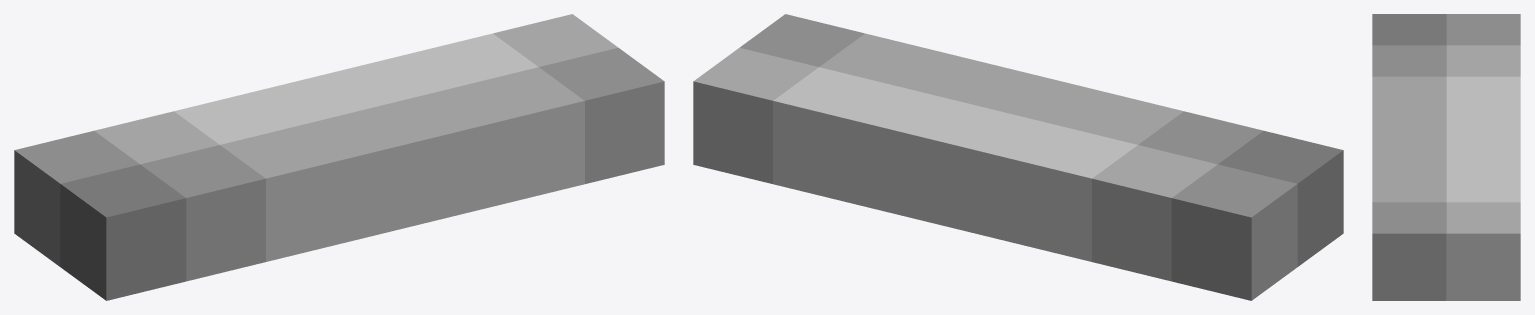
The model's file is acrB.obj.
The picture shows the model from 3 angles, left to right: view 1: azimuth 30°, elevation 25°; view 2: azimuth 150°, elevation 25°; view 3: azimuth 270°, elevation 25°; orthographic projection. The views are drawn at different scales.
Visible parts, largest first — view 1: ACR Casing; view 2: ACR Casing; view 3: ACR Casing.
Part boxes in pixels (box(x1,y1,x2,y2)): ACR Casing: box(14, 14, 664, 300); ACR Casing: box(693, 14, 1343, 300); ACR Casing: box(1372, 14, 1520, 300).
Size of the model in its own units: 0.7 by 0.1 by 0.2.
1 material, 1 textured.
